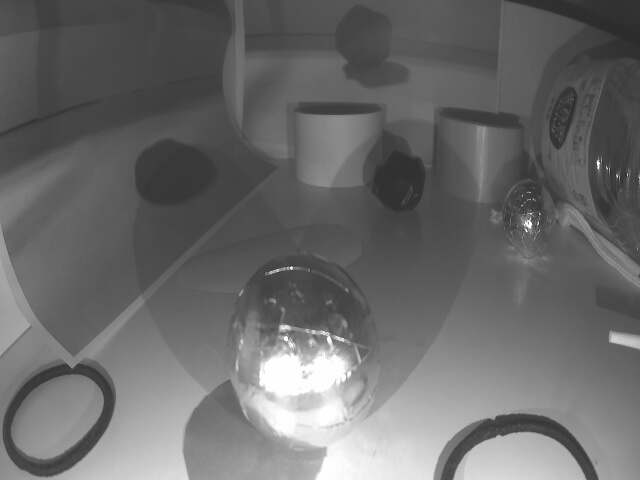Dead: (373, 150, 428, 210)
Live: (226, 263, 385, 452), (501, 179, 555, 255)
